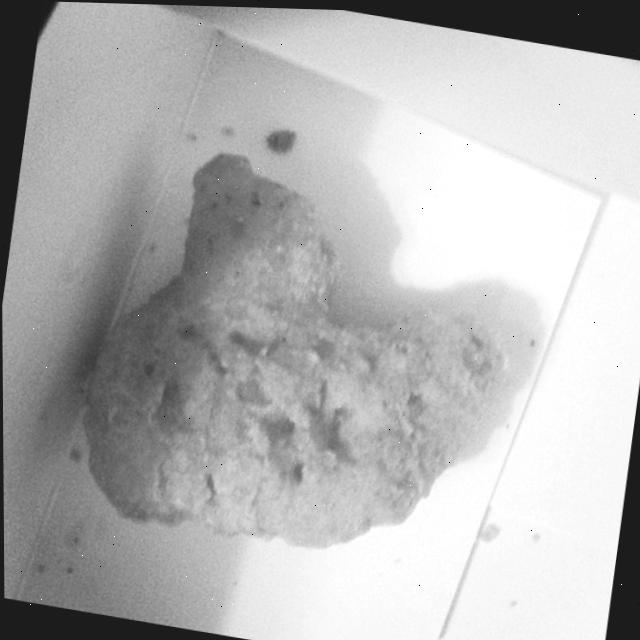鸡肉料理 含炸鸡: (26, 110, 578, 622)
